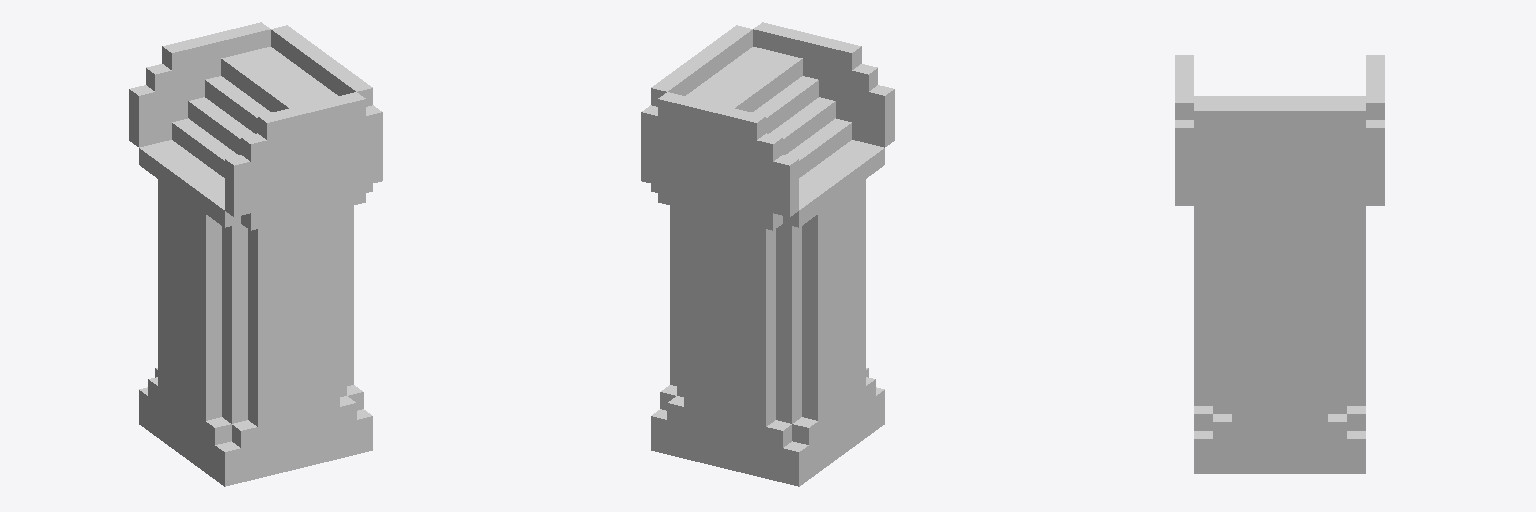
The picture shows the model from 3 angles: view 1: azimuth 30°, elevation 25°; view 2: azimuth 150°, elevation 25°; view 3: azimuth 270°, elevation 25°; orthographic projection.
Visible parts, largest first — view 1: object 1; view 2: object 1; view 3: object 1.
Part boxes in pixels (left/top/right/bottom): object 1: left=129, top=22, right=382, bottom=486; object 1: left=641, top=22, right=894, bottom=486; object 1: left=1175, top=55, right=1384, bottom=473.
Size of the model in its own units: 0.9 by 2.1 by 1.1.
Materials: 1 (1 with a texture image).